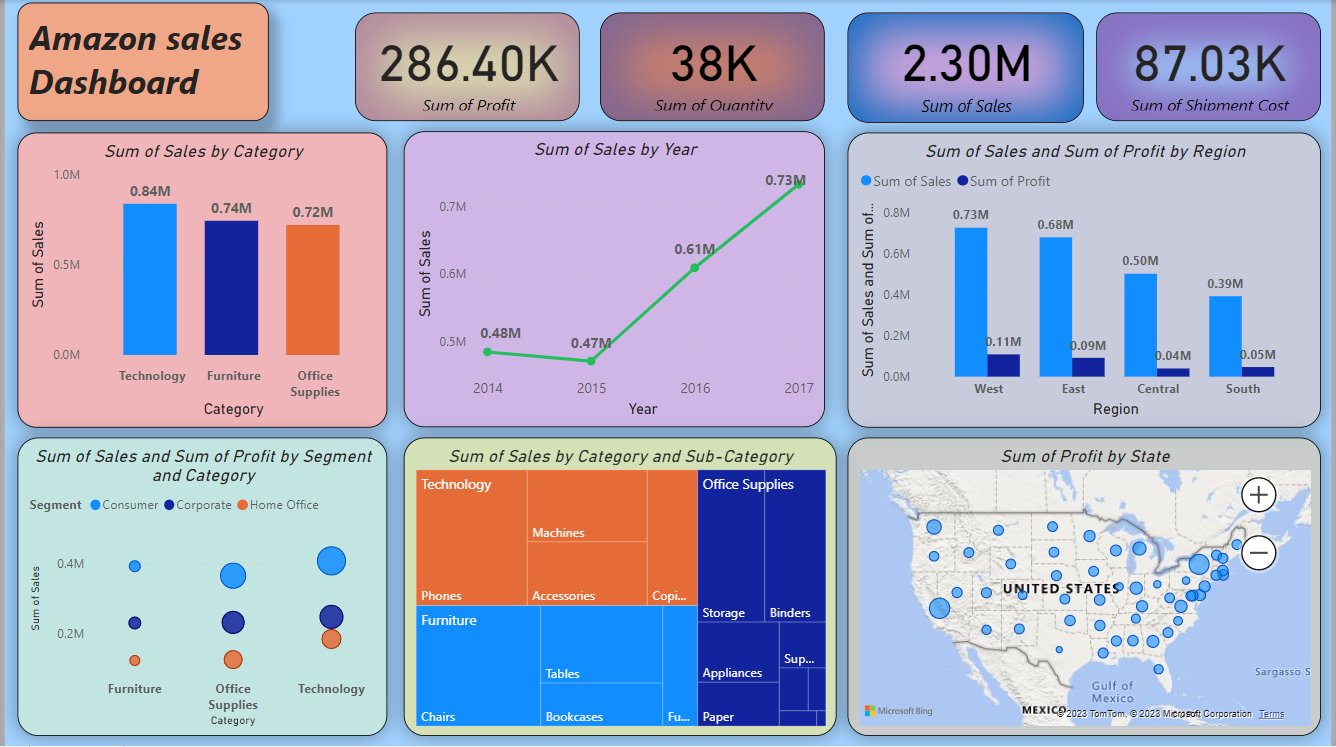

This screenshot's page, from the dashboard's own definition file:
{"tool":"powerbi","page":{"name":"Page 1","canvas":[1280,720],"ordinal":0},"visuals":[{"type":"textbox","box":[12.1,2.4,242.4,114.6],"z":0},{"type":"card","fields":{"Values":["Sum(Orders.Profit)"]},"box":[337.7,12.1,217.1,104.9],"z":1000},{"type":"card","fields":{"Values":["Sum(Orders.Quantity)"]},"box":[574.1,12.1,217.1,104.9],"z":2000},{"type":"columnChart","fields":{"Y":["Sum(Orders.Sales)"],"Category":["Orders.Category"]},"box":[12.1,127.8,357,284.6],"z":3000},{"type":"lineChart","fields":{"Y":["Sum(Orders.Sales)"],"Category":["Orders.Order Date.Variation.Date Hierarchy.Year"]},"box":[384.7,126.6,406.4,285.8],"z":4000},{"type":"clusteredColumnChart","fields":{"Y":["Sum(Orders.Sales)","Sum(Orders.Profit)"],"Category":["Orders.Region"]},"box":[812.9,127.8,457.1,284.6],"z":5000},{"type":"scatterChart","fields":{"X":["Orders.Category"],"Y":["Sum(Orders.Sales)"],"Size":["Sum(Orders.Profit)"],"Series":["Orders.Segment"]},"box":[12.1,422.1,357,288.2],"z":6000},{"type":"map","fields":{"Category":["Orders.State"],"Size":["Sum(Orders.Profit)"]},"box":[812.9,422.1,457.1,288.2],"z":7000},{"type":"treemap","fields":{"Group":["Orders.Category"],"Details":["Orders.Sub-Category"],"Values":["Sum(Orders.Sales)"]},"box":[384.7,422.1,417.3,288.2],"z":8000},{"type":"card","fields":{"Values":["Sum(Orders.Sales)"]},"box":[812.9,12.1,227.9,106.1],"z":9000},{"type":"card","fields":{"Values":["Sum(Orders.Shipment Cost)"]},"box":[1052.9,12.1,217.1,104.9],"z":10000}]}

Visuals, with their boxes in screenshot pixels (x1, y1, x2, y2), scaled from the page's 1280x720 canvas onto the 1336x747 screenshot:
textbox: (13,2,266,121)
card - Sum(Orders.Profit): (352,13,579,121)
card - Sum(Orders.Quantity): (599,13,826,121)
columnChart - Sum(Orders.Sales) x Orders.Category: (13,133,385,428)
lineChart - Sum(Orders.Sales) x Orders.Order Date.Variation.Date Hierarchy.Year: (402,131,826,428)
clusteredColumnChart - Sum(Orders.Sales) x Sum(Orders.Profit): (848,133,1326,428)
scatterChart - Orders.Category x Sum(Orders.Sales): (13,438,385,737)
map - Orders.State x Sum(Orders.Profit): (848,438,1326,737)
treemap - Orders.Category x Orders.Sub-Category: (402,438,837,737)
card - Sum(Orders.Sales): (848,13,1086,123)
card - Sum(Orders.Shipment Cost): (1099,13,1326,121)
